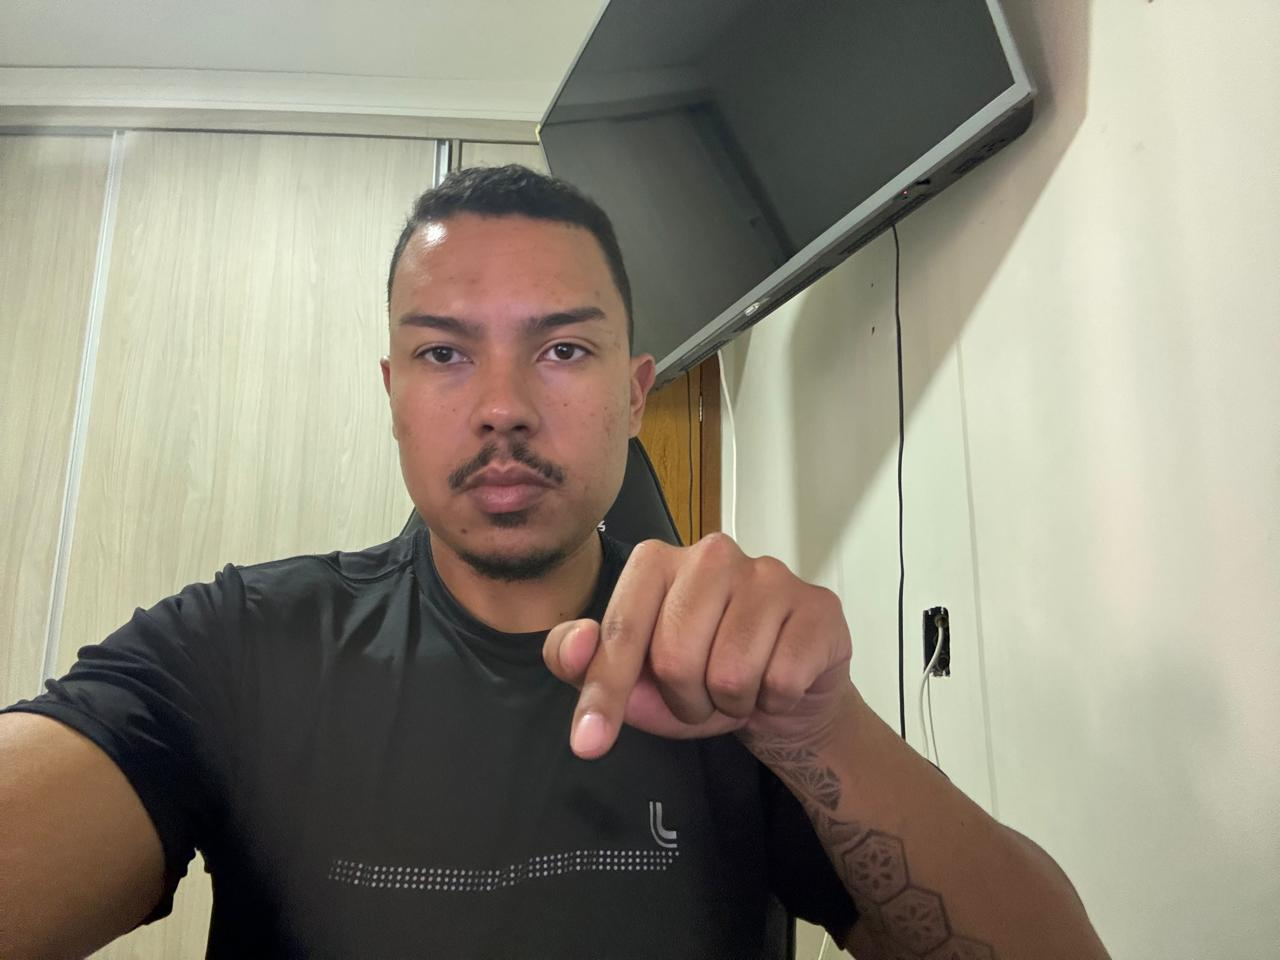q: (536, 516, 867, 813)
